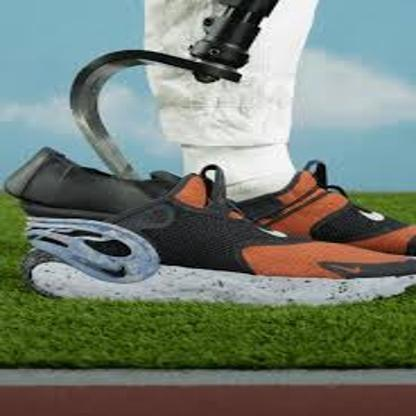not trash: (6, 147, 416, 305)
